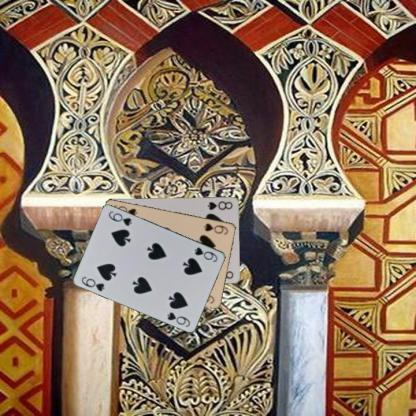6s: (192, 245, 219, 264), (79, 274, 106, 292), (202, 221, 229, 236)
8s: (205, 198, 234, 211)
